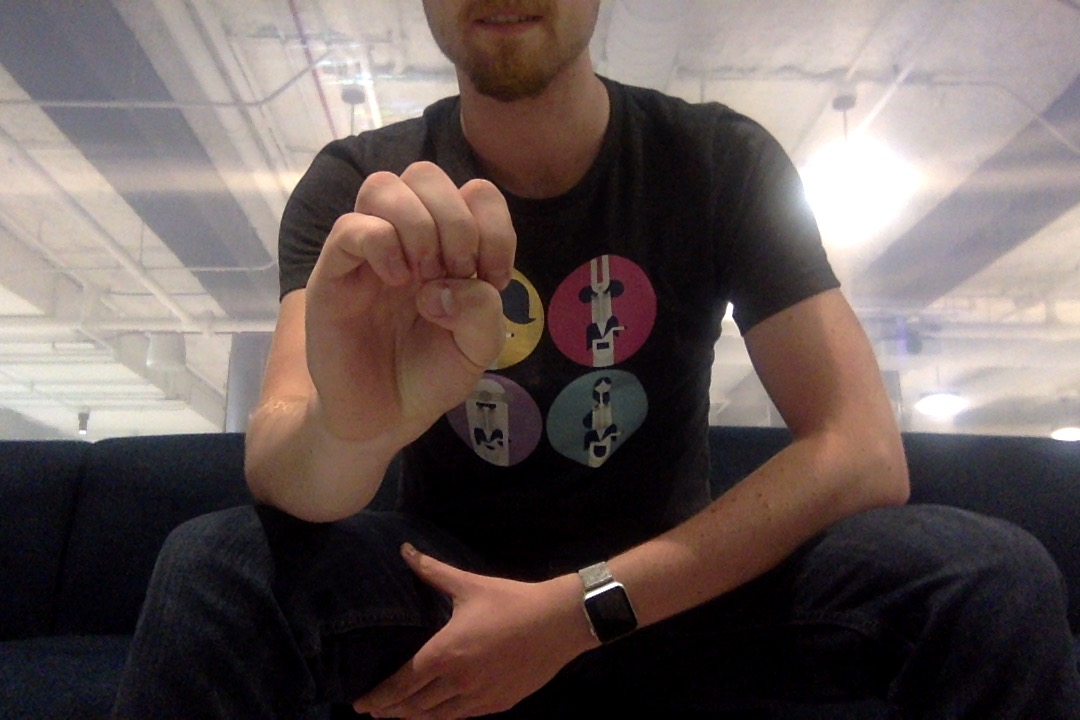e: (301, 155, 523, 455)
